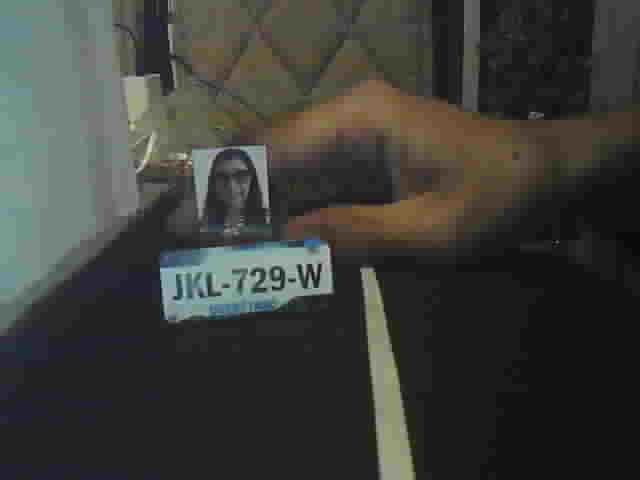PLACA: (157, 238, 337, 328)
ROSTRO: (199, 148, 269, 233)
